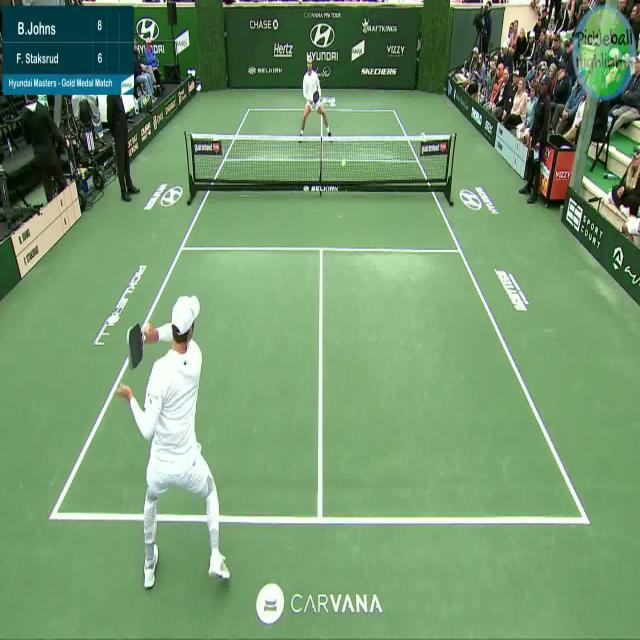ball: (341, 158, 346, 166)
